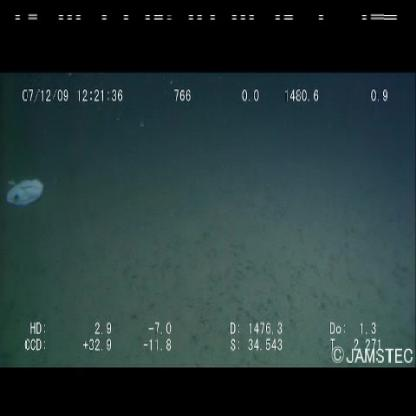Rác: (5, 174, 50, 212)
